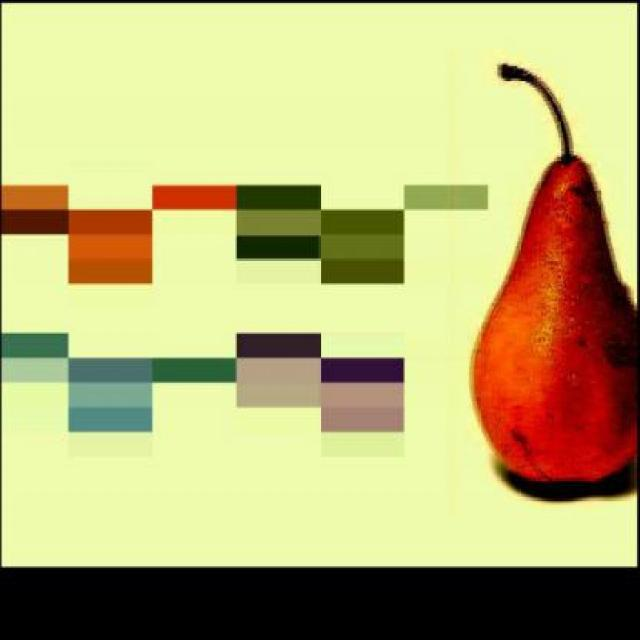Pear: (472, 155, 640, 483)
